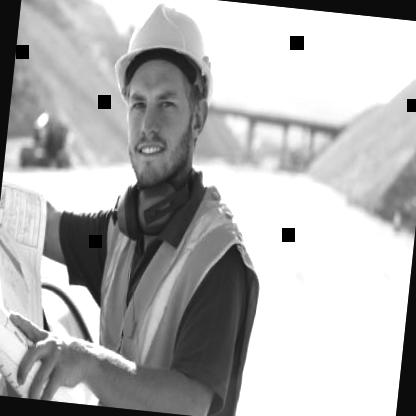helmet: (86, 0, 234, 204)
